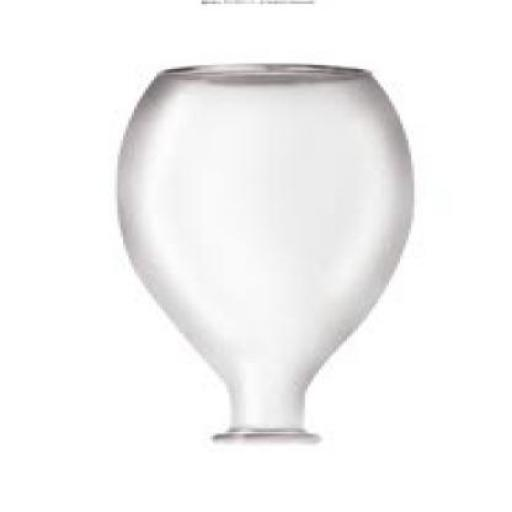glass: (112, 67, 411, 445)
